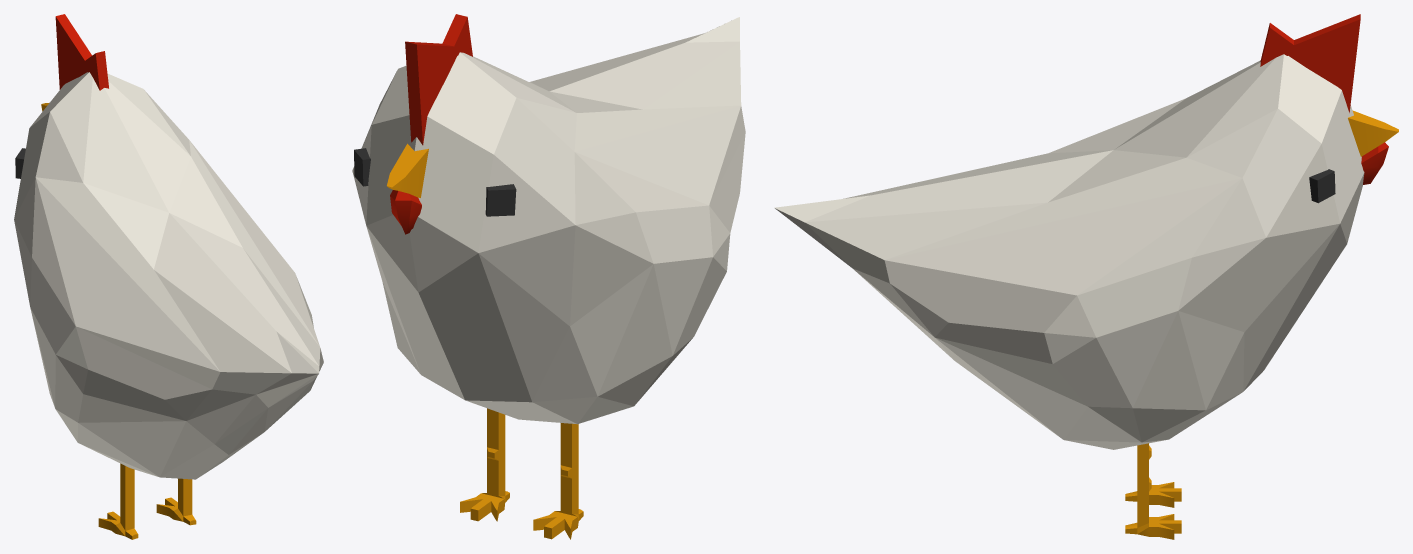
File: chicken.fbx
3 views of the same model, side by side, from view 1: azimuth 30°, elevation 25°; view 2: azimuth 150°, elevation 25°; view 3: azimuth 270°, elevation 25° (orthographic). The views are drawn at different scales.
Visible parts, largest first — view 1: Cube, Cube.005, Cube.003; view 2: Cube, Cube.005, Cube.003, Cube.001, Cube.002, Cube.004; view 3: Cube, Cube.003, Cube.005, Cube.002.
Part boxes in pixels (left/top/right/bottom): Cube: left=14, top=72, right=323, bottom=479; Cube.005: left=98, top=463, right=196, bottom=539; Cube.003: left=55, top=14, right=108, bottom=90; Cube: left=352, top=17, right=745, bottom=424; Cube.005: left=460, top=408, right=583, bottom=539; Cube.003: left=405, top=14, right=472, bottom=145; Cube.001: left=354, top=148, right=516, bottom=216; Cube.002: left=387, top=143, right=428, bottom=197; Cube.004: left=390, top=190, right=421, bottom=234; Cube: left=774, top=54, right=1364, bottom=449; Cube.003: left=1260, top=14, right=1360, bottom=112; Cube.005: left=1125, top=443, right=1181, bottom=539; Cube.002: left=1348, top=110, right=1398, bottom=156.
Bounding box in the file's own units: 174 × 303 × 343.
